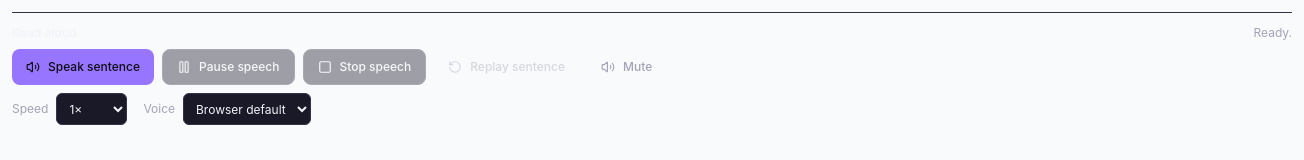
Test: DraftSpeech › shows a clear error when speech fails, but not when it is only interrupted
Step 1. Click the button "Speak sentence" → (83, 67), box [12,49,154,85]
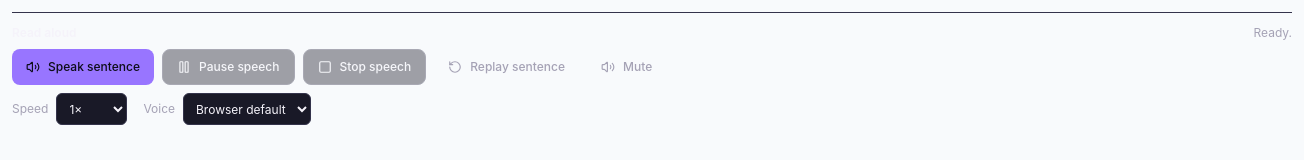
Step 2. Click the button "Speak sentence" → (83, 67), box [12,49,154,85]
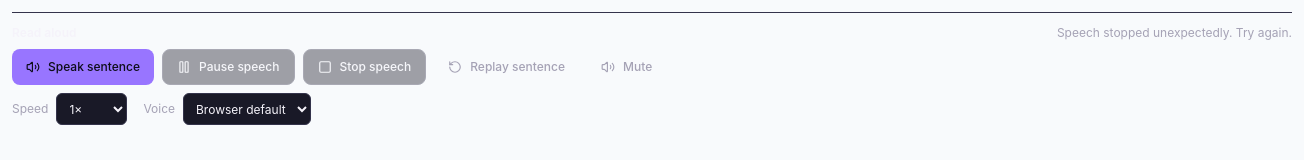
expect the message reads "Speech stopped unexpectedly. Try again.": met, box [1057,25,1292,40]
